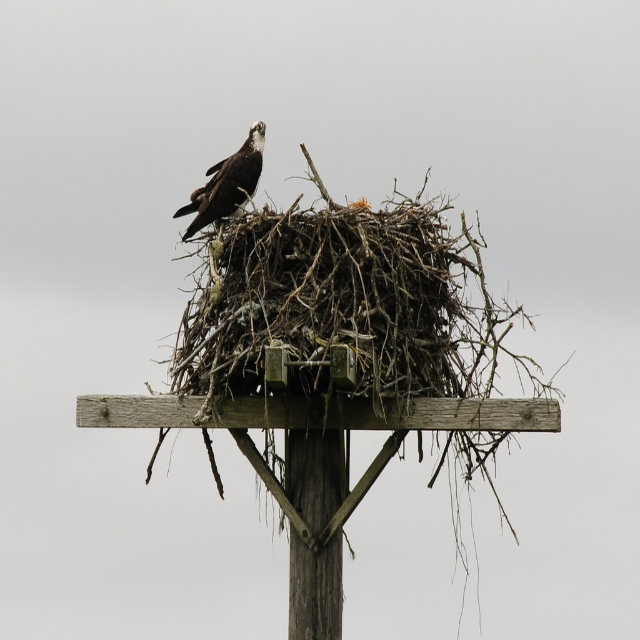Eagle: (173, 120, 267, 242)
